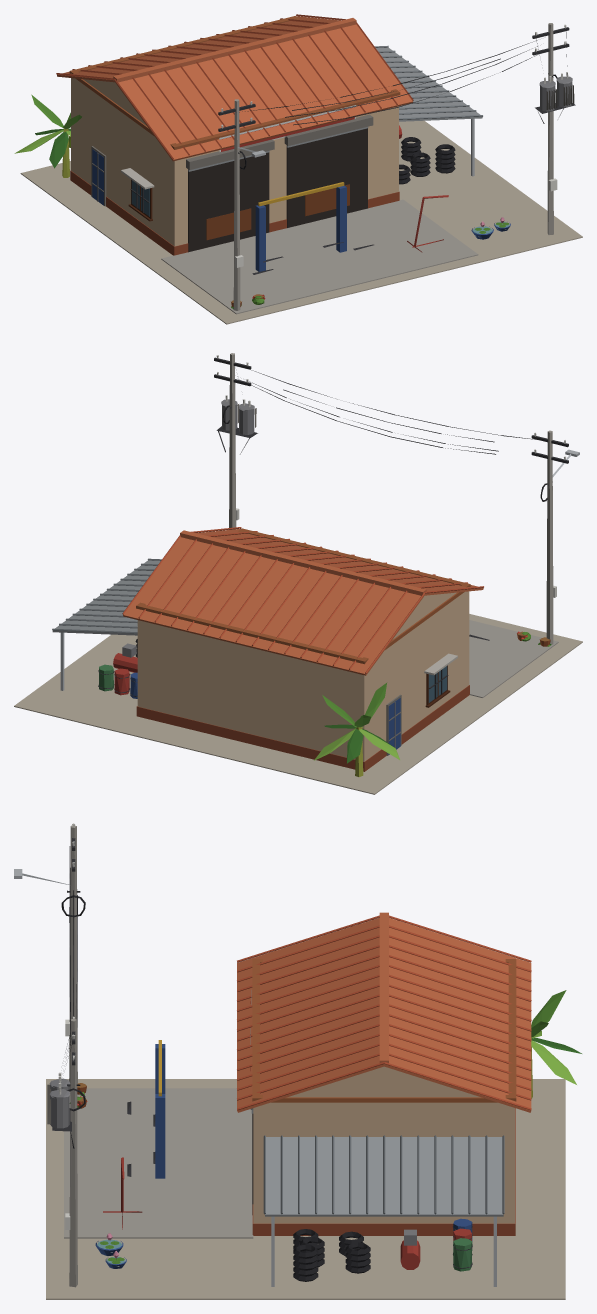
Rendered from factory_1.glb.
3 renders of one model, top to bottom at view 1: azimuth 30°, elevation 25°; view 2: azimuth 150°, elevation 25°; view 3: azimuth 270°, elevation 25°, orthographic. The views are drawn at different scales.
Parts seen in each view (by area): view 1: body, windows; view 2: body; view 3: body.
Part boxes in pixels (x1,y1,x2,y2): body: (14, 14, 582, 324); windows: (131, 128, 367, 252); body: (14, 353, 582, 794); body: (14, 823, 581, 1299).
Size of the model in its own units: 16.62 by 9.3 by 17.4.
